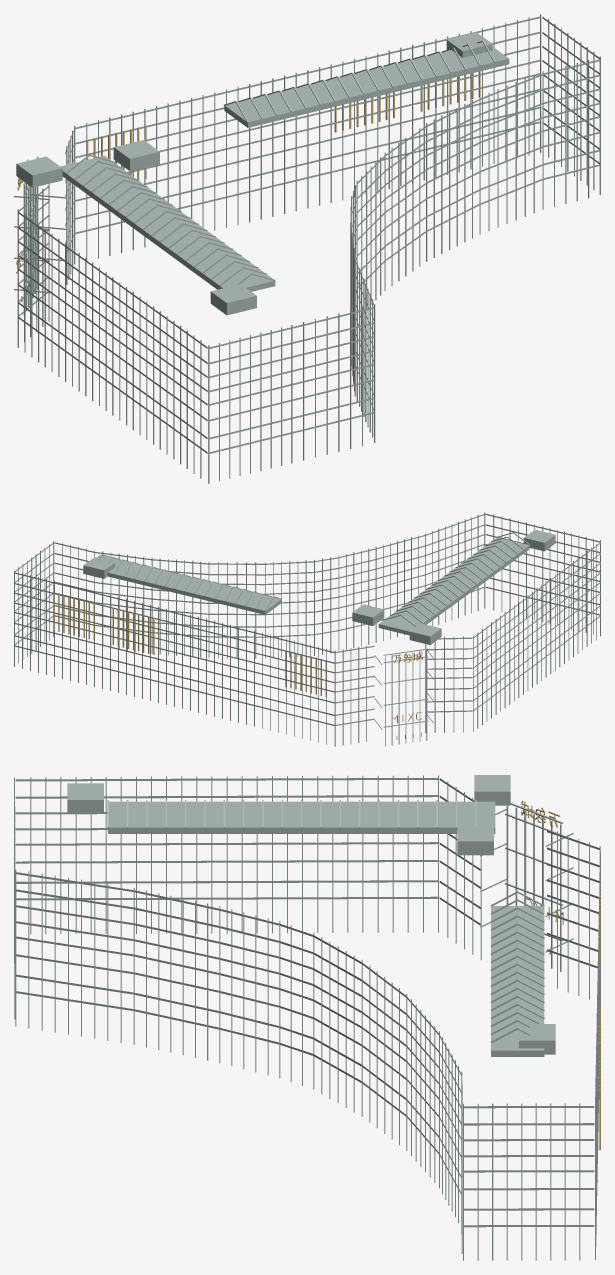
Rendered from landmark-mixc.glb.
The picture shows the model from 3 angles, top to bottom: view 1: azimuth 30°, elevation 25°; view 2: azimuth 150°, elevation 25°; view 3: azimuth 270°, elevation 25°; orthographic projection. The views are drawn at different scales.
Visible parts, largest first — view 1: Landmark_mixc; view 2: Landmark_mixc; view 3: Landmark_mixc.
Boxes of the visible parts, x1,y1,x2,y2 form: Landmark_mixc: [14, 14, 600, 483]; Landmark_mixc: [14, 512, 600, 746]; Landmark_mixc: [14, 775, 600, 1260].
Bounding box in the file's own units: 2.77 × 0.7113 × 2.09.
